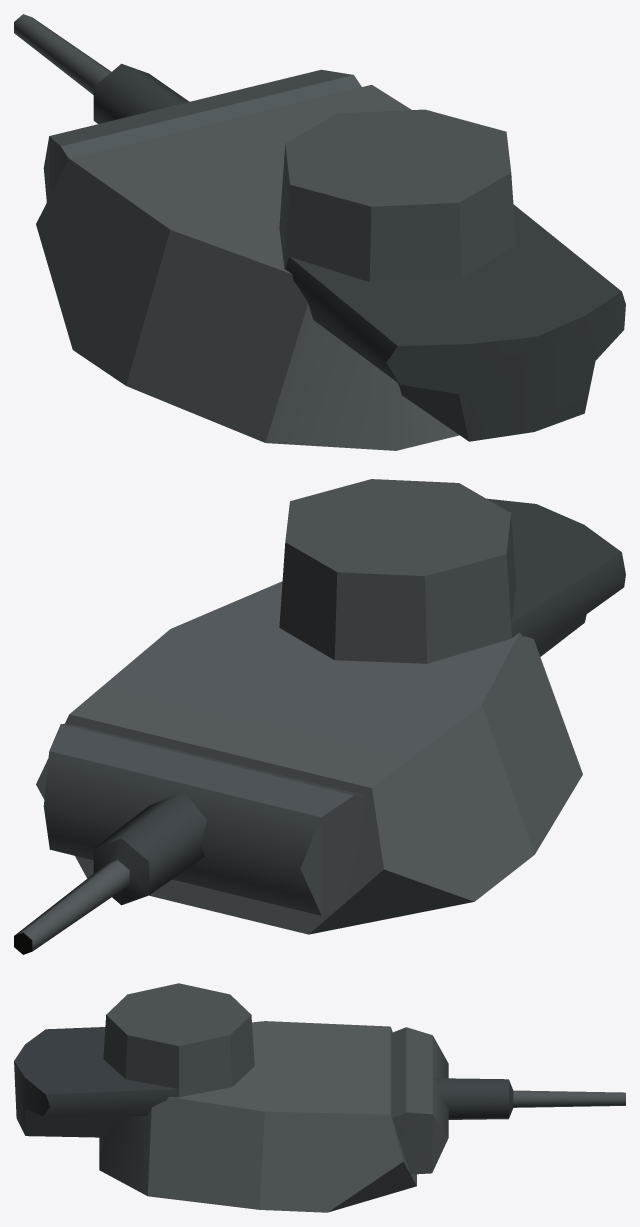
Rendered from tank_turret.obj.
The picture shows the model from 3 angles, top to bottom: view 1: azimuth 30°, elevation 25°; view 2: azimuth 150°, elevation 25°; view 3: azimuth 270°, elevation 25°; orthographic projection. The views are drawn at different scales.
Visible parts, largest first — view 1: Gun_Cylinder_001; view 2: Gun_Cylinder_001; view 3: Gun_Cylinder_001.
Boxes of the visible parts, x1,y1,x2,y2 form: Gun_Cylinder_001: [14, 14, 625, 450]; Gun_Cylinder_001: [14, 479, 625, 954]; Gun_Cylinder_001: [14, 983, 625, 1212].
Size of the model in its own units: 1.39 by 0.7595 by 3.02.
